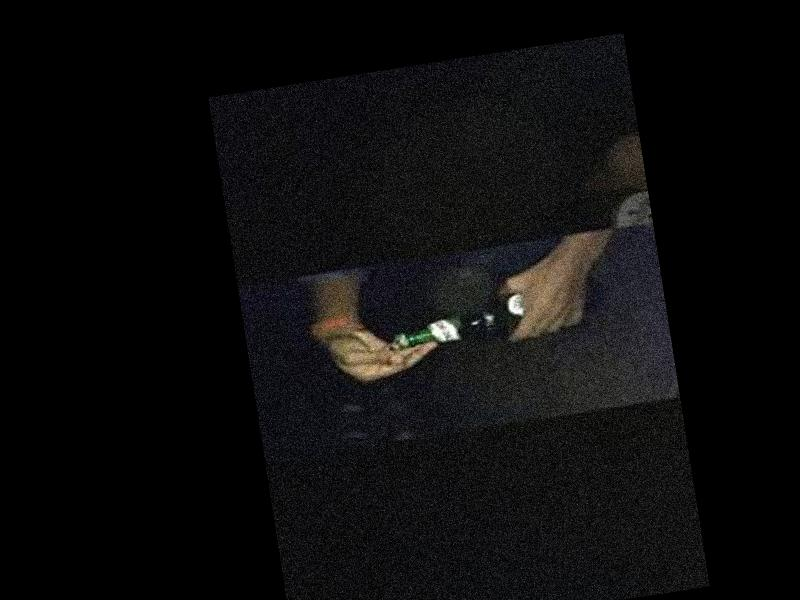Beer: (390, 270, 605, 354)
